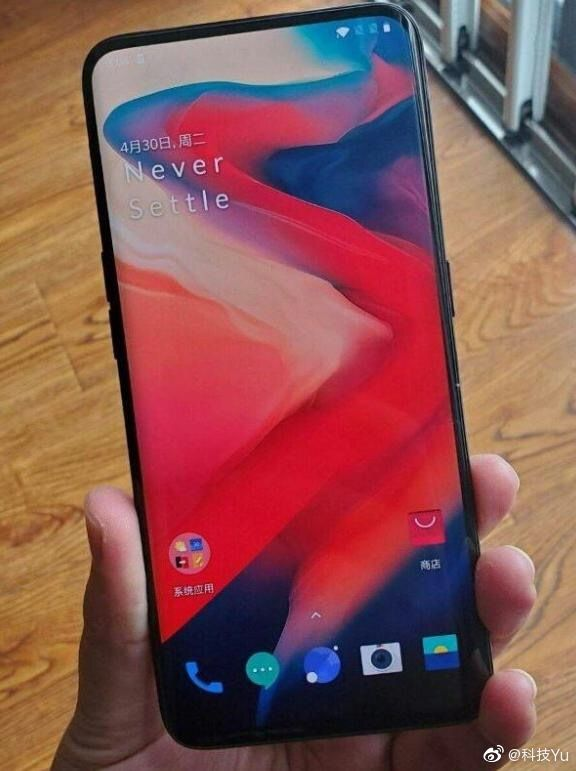Cell Phone: (72, 4, 507, 744)
